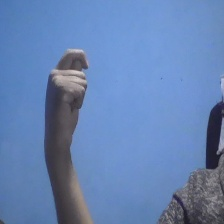T: (38, 46, 99, 154)
